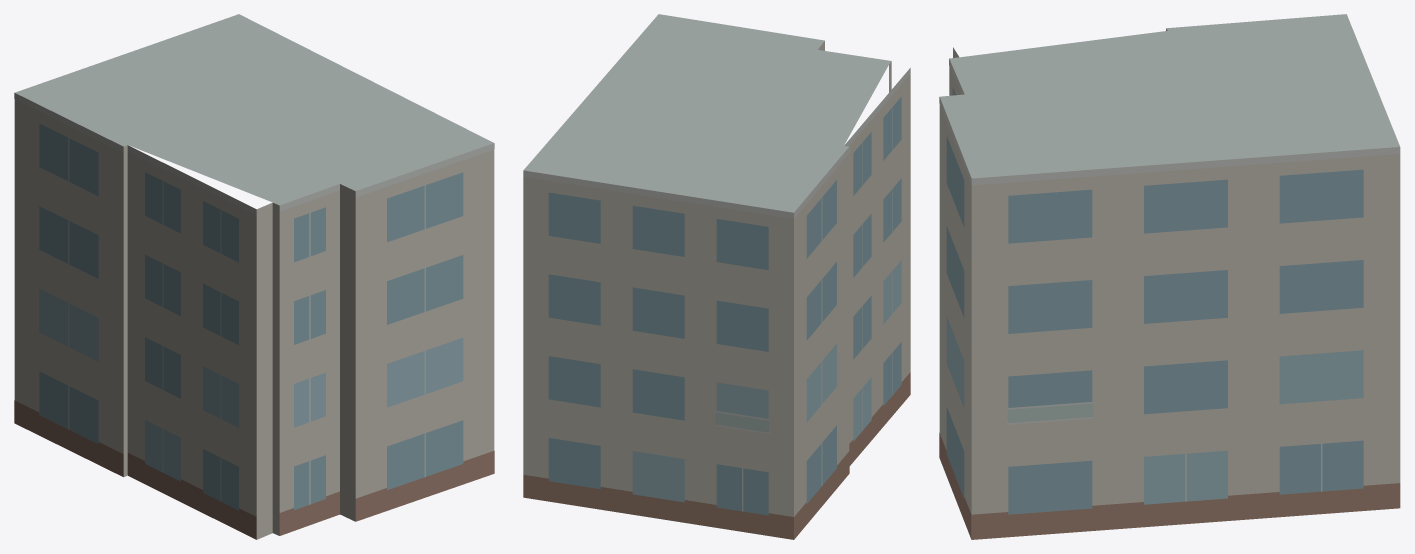
File: survey-upis-32589563.glb
The picture shows the model from 3 angles, left to right: view 1: azimuth 30°, elevation 25°; view 2: azimuth 150°, elevation 25°; view 3: azimuth 270°, elevation 25°; orthographic projection. The views are drawn at different scales.
Parts seen in each view (by area): view 1: survey-upis-32589563.tmp; view 2: survey-upis-32589563.tmp; view 3: survey-upis-32589563.tmp.
Boxes of the visible parts, x1,y1,x2,y2 form: survey-upis-32589563.tmp: [14, 14, 494, 539]; survey-upis-32589563.tmp: [523, 14, 910, 539]; survey-upis-32589563.tmp: [939, 14, 1400, 539].
Size of the model in its own units: 12.41 by 12.7 by 14.68.
